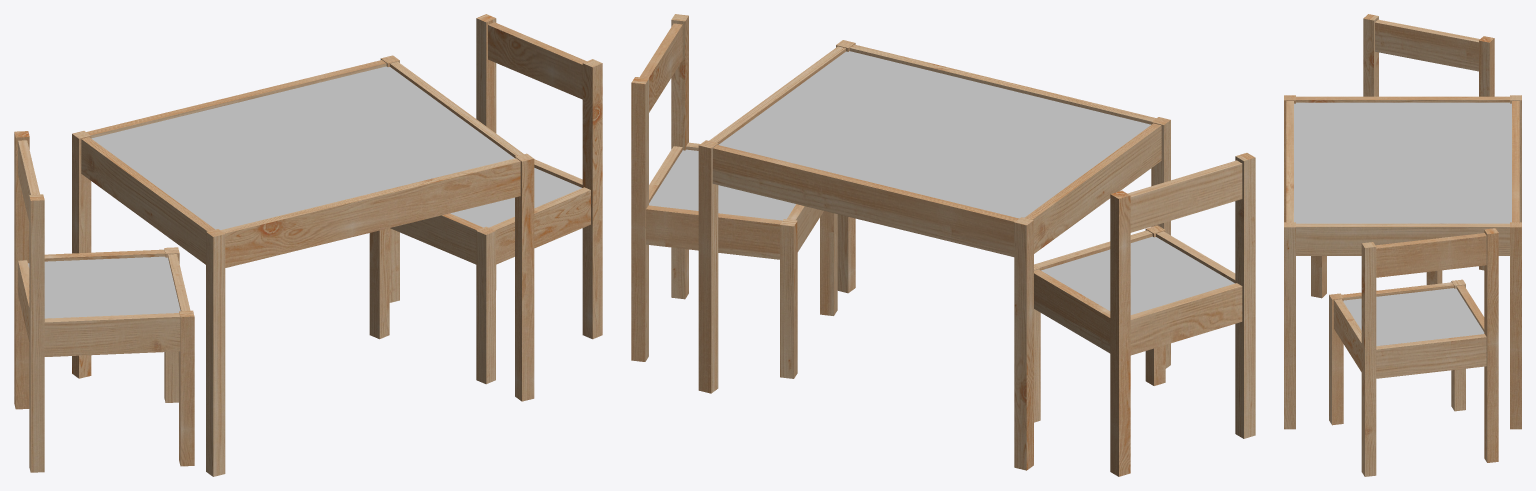
The model's file is LATT_Children_s_table_w_2_chairs.obj.
The picture shows the model from 3 angles, left to right: view 1: azimuth 30°, elevation 25°; view 2: azimuth 150°, elevation 25°; view 3: azimuth 270°, elevation 25°; orthographic projection. The views are drawn at different scales.
Visible parts, largest first — view 1: table_Cube.000, chair2_Cube.004, chair_Cube.005; view 2: table_Cube.000, chair2_Cube.004, chair_Cube.005; view 3: table_Cube.000, chair_Cube.005, chair2_Cube.004.
Part boxes in pixels (left/top/right/bottom): table_Cube.000: left=72, top=55, right=534, bottom=476; chair2_Cube.004: left=14, top=131, right=194, bottom=472; chair_Cube.005: left=369, top=14, right=602, bottom=384; table_Cube.000: left=698, top=40, right=1170, bottom=470; chair2_Cube.004: left=1034, top=153, right=1255, bottom=476; chair_Cube.005: left=631, top=14, right=837, bottom=378; table_Cube.000: left=1284, top=95, right=1521, bottom=429; chair_Cube.005: left=1329, top=228, right=1498, bottom=476; chair2_Cube.004: left=1311, top=14, right=1494, bottom=298.
Size of the model in its own units: 1.12 by 0.51 by 0.48.
Materials: 2 (1 with a texture image).
